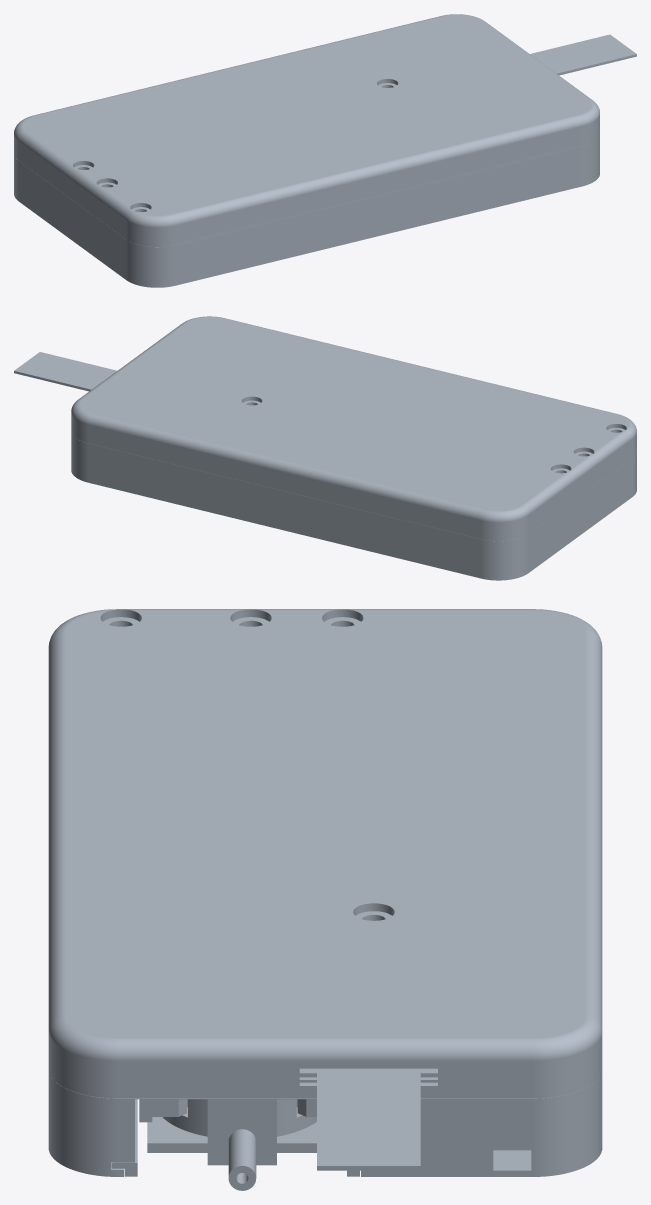
File: OP-200_assembly.glb
The picture shows the model from 3 angles, top to bottom: view 1: azimuth 30°, elevation 25°; view 2: azimuth 150°, elevation 25°; view 3: azimuth 270°, elevation 25°; orthographic projection. The views are drawn at different scales.
Visible parts, largest first — view 1: top, bottom, ffc_cable; view 2: top, bottom, ffc_cable; view 3: top, bottom, ffc_cable, cannula_adapter, dock_insert.
Part boxes in pixels (x1,y1,x2,y2): top: (14, 14, 599, 246); bottom: (14, 135, 599, 287); ffc_cable: (530, 34, 636, 75); top: (71, 316, 636, 541); bottom: (71, 433, 636, 580); ffc_cable: (14, 352, 117, 391); top: (48, 609, 602, 1098); bottom: (48, 1072, 602, 1176); ffc_cable: (317, 1068, 420, 1170); cannula_adapter: (147, 1099, 316, 1190); dock_insert: (111, 1099, 359, 1176).
Bounding box in the file's own units: 0.0724 × 0.0084 × 0.032.
